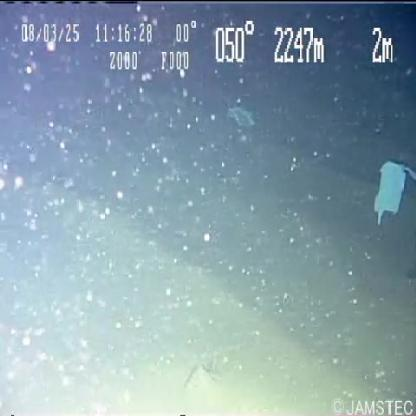Rác: (375, 162, 407, 226)
